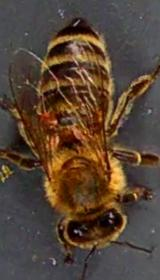varroa_mite: (32, 103, 62, 132)
